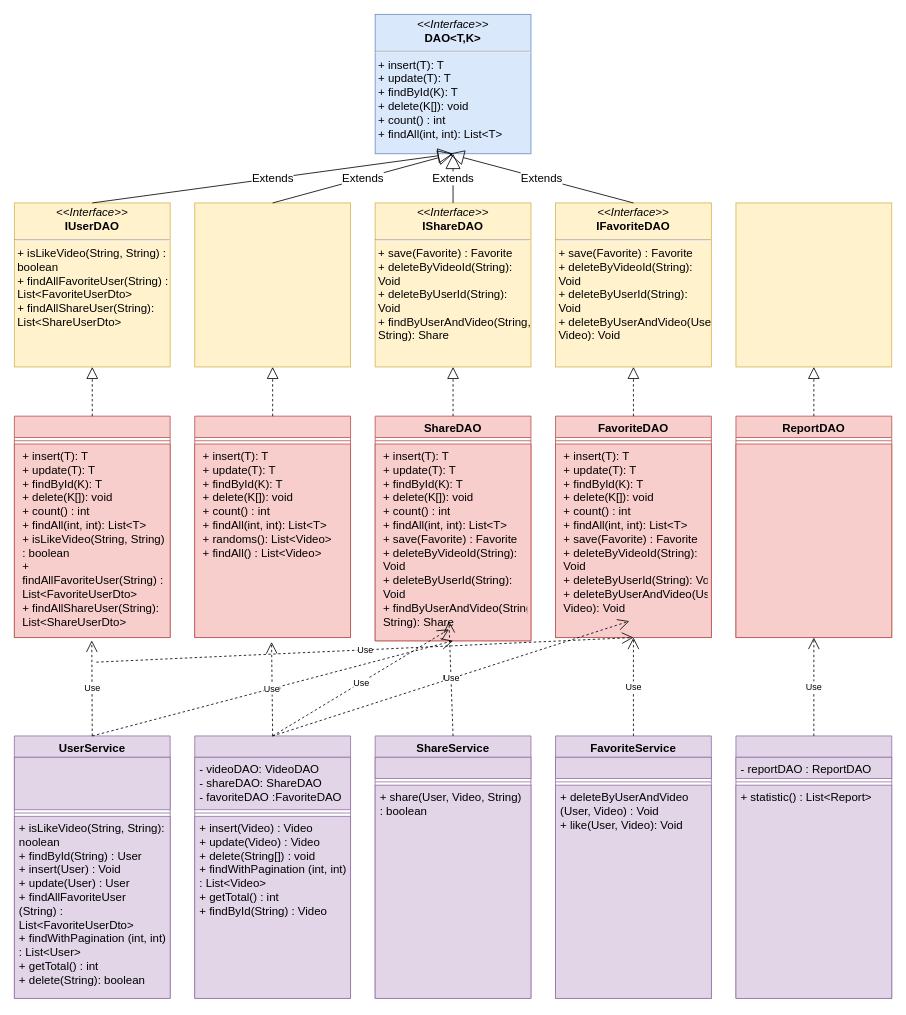
Image size: 906x1015. Some labels were removed from this diagram. Each missing label, with the box of its shape:
+ statistic(): List<Report>: (735, 443, 892, 638)
- favoriteDAO : FavoriteDAO: (555, 756, 711, 779)
- shareDAO: ShareDAO: (374, 756, 531, 779)
- userDAO: UserDAO - shareDAO: ShareDAO - favoriteDAO :FavoriteDAO: (14, 756, 170, 810)
<<Interface>> IVideoDAO + randoms(): List<Video> + findAll() : List<Video>: (194, 202, 351, 367)
<<Interface>> ReportDAO + statistic(): List<Report>: (735, 202, 892, 367)
ReportService: (735, 735, 892, 998)
UserDAO: (14, 415, 170, 638)
VideoDAO: (194, 415, 351, 638)
VideoService: (194, 735, 351, 998)
